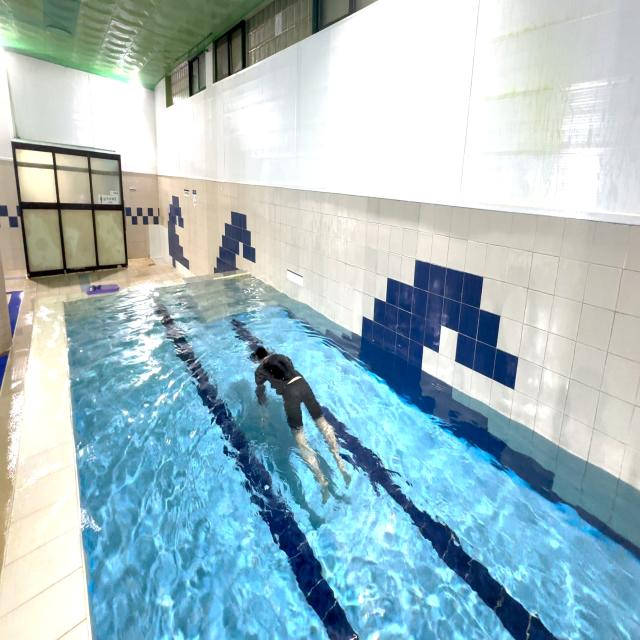Drowning: (245, 332, 360, 515)
